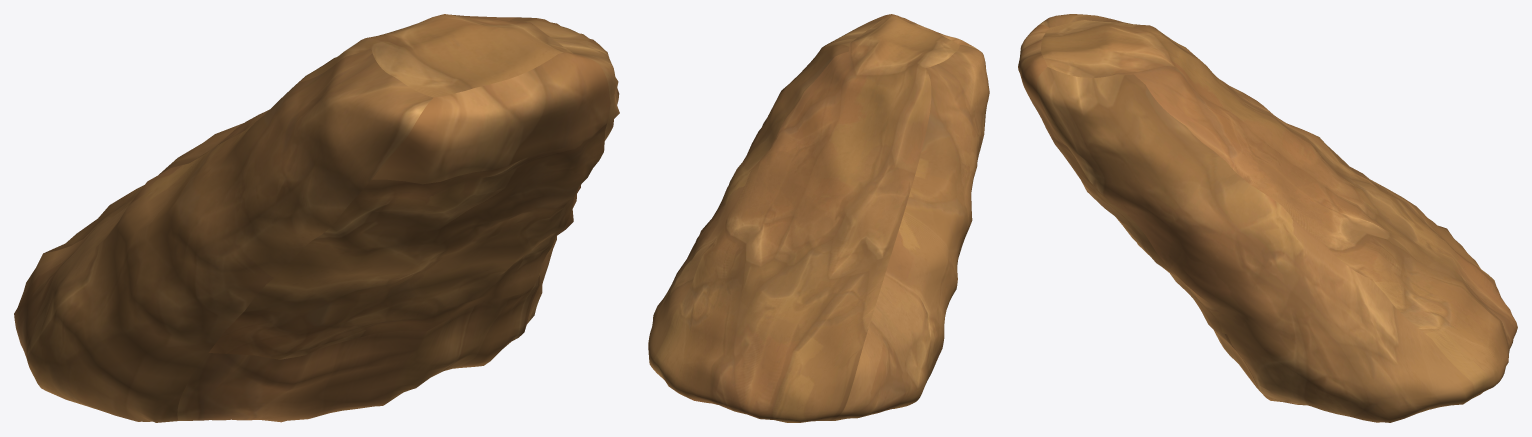
File: islands9.fbx
3 renders of one model, left to right at view 1: azimuth 30°, elevation 25°; view 2: azimuth 150°, elevation 25°; view 3: azimuth 270°, elevation 25°, orthographic. The views are drawn at different scales.
Parts seen in each view (by area): view 1: Cube.011; view 2: Cube.011; view 3: Cube.011.
Part boxes in pixels (<box>): Cube.011: <box>14,14,619,422</box>; Cube.011: <box>648,14,989,422</box>; Cube.011: <box>1018,14,1517,422</box>.
Bounding box in the file's own units: 1327 × 1281 × 1750.
Materials: 1 (1 with a texture image).
